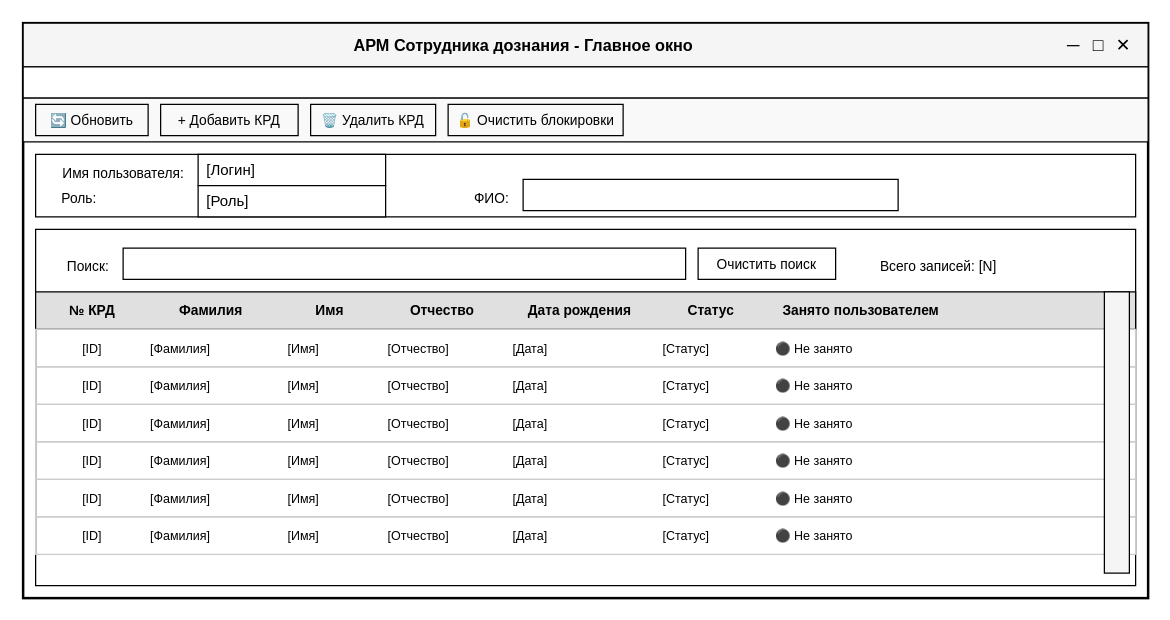
This 1170x620 diagram has some shape labels left out. Here are the shapes that lost their labels. From the top down, the box of each, then its label:
(22, 66, 1148, 98): Файл Отчёты Справочники Администрирование Настройки Справка
(522, 178, 898, 211): [ФИО Пользователя]
(122, 247, 686, 279): [Введите фамилию, имя, отчество или номер КРД...]
